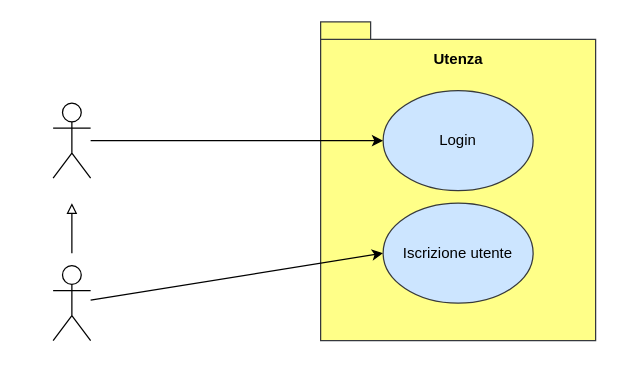
Image size: 618x389. Some labels were removed from this diagram. The shapes that lost their labels are listed below. From the top down, each one's box as (x1, y1, x2, y2) in pixels, then its label:
(52, 102, 91, 178): Utente
(52, 264, 91, 341): Amministratore
